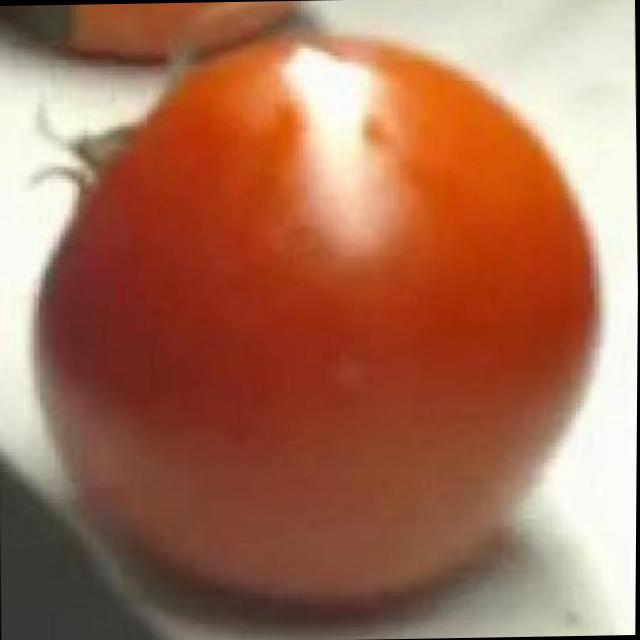tomato: (30, 27, 609, 614)
